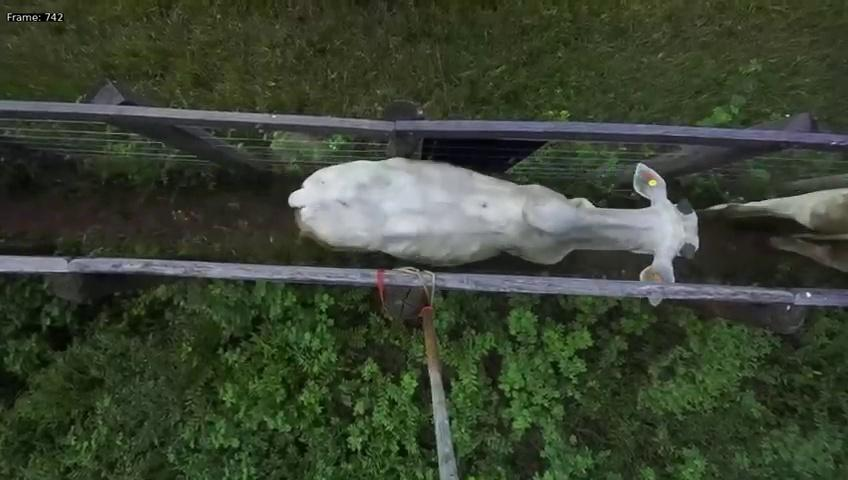cattle: (288, 137, 705, 281)
